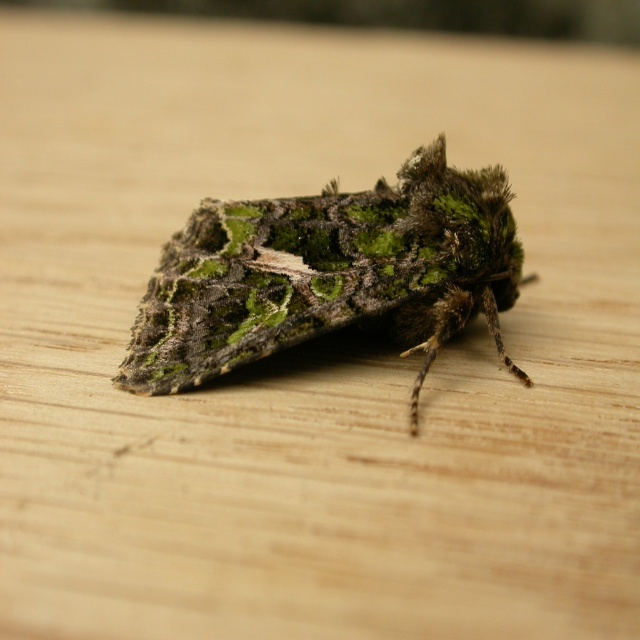Moths and butterflies: (108, 125, 540, 439)
